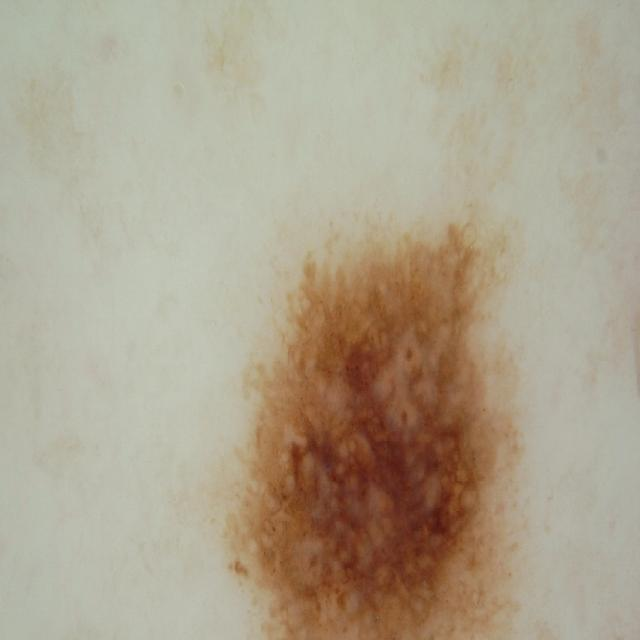Melanoma: (215, 194, 529, 640)
